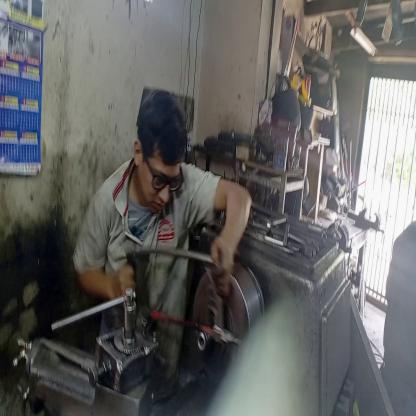lentes: (142, 150, 184, 194)
